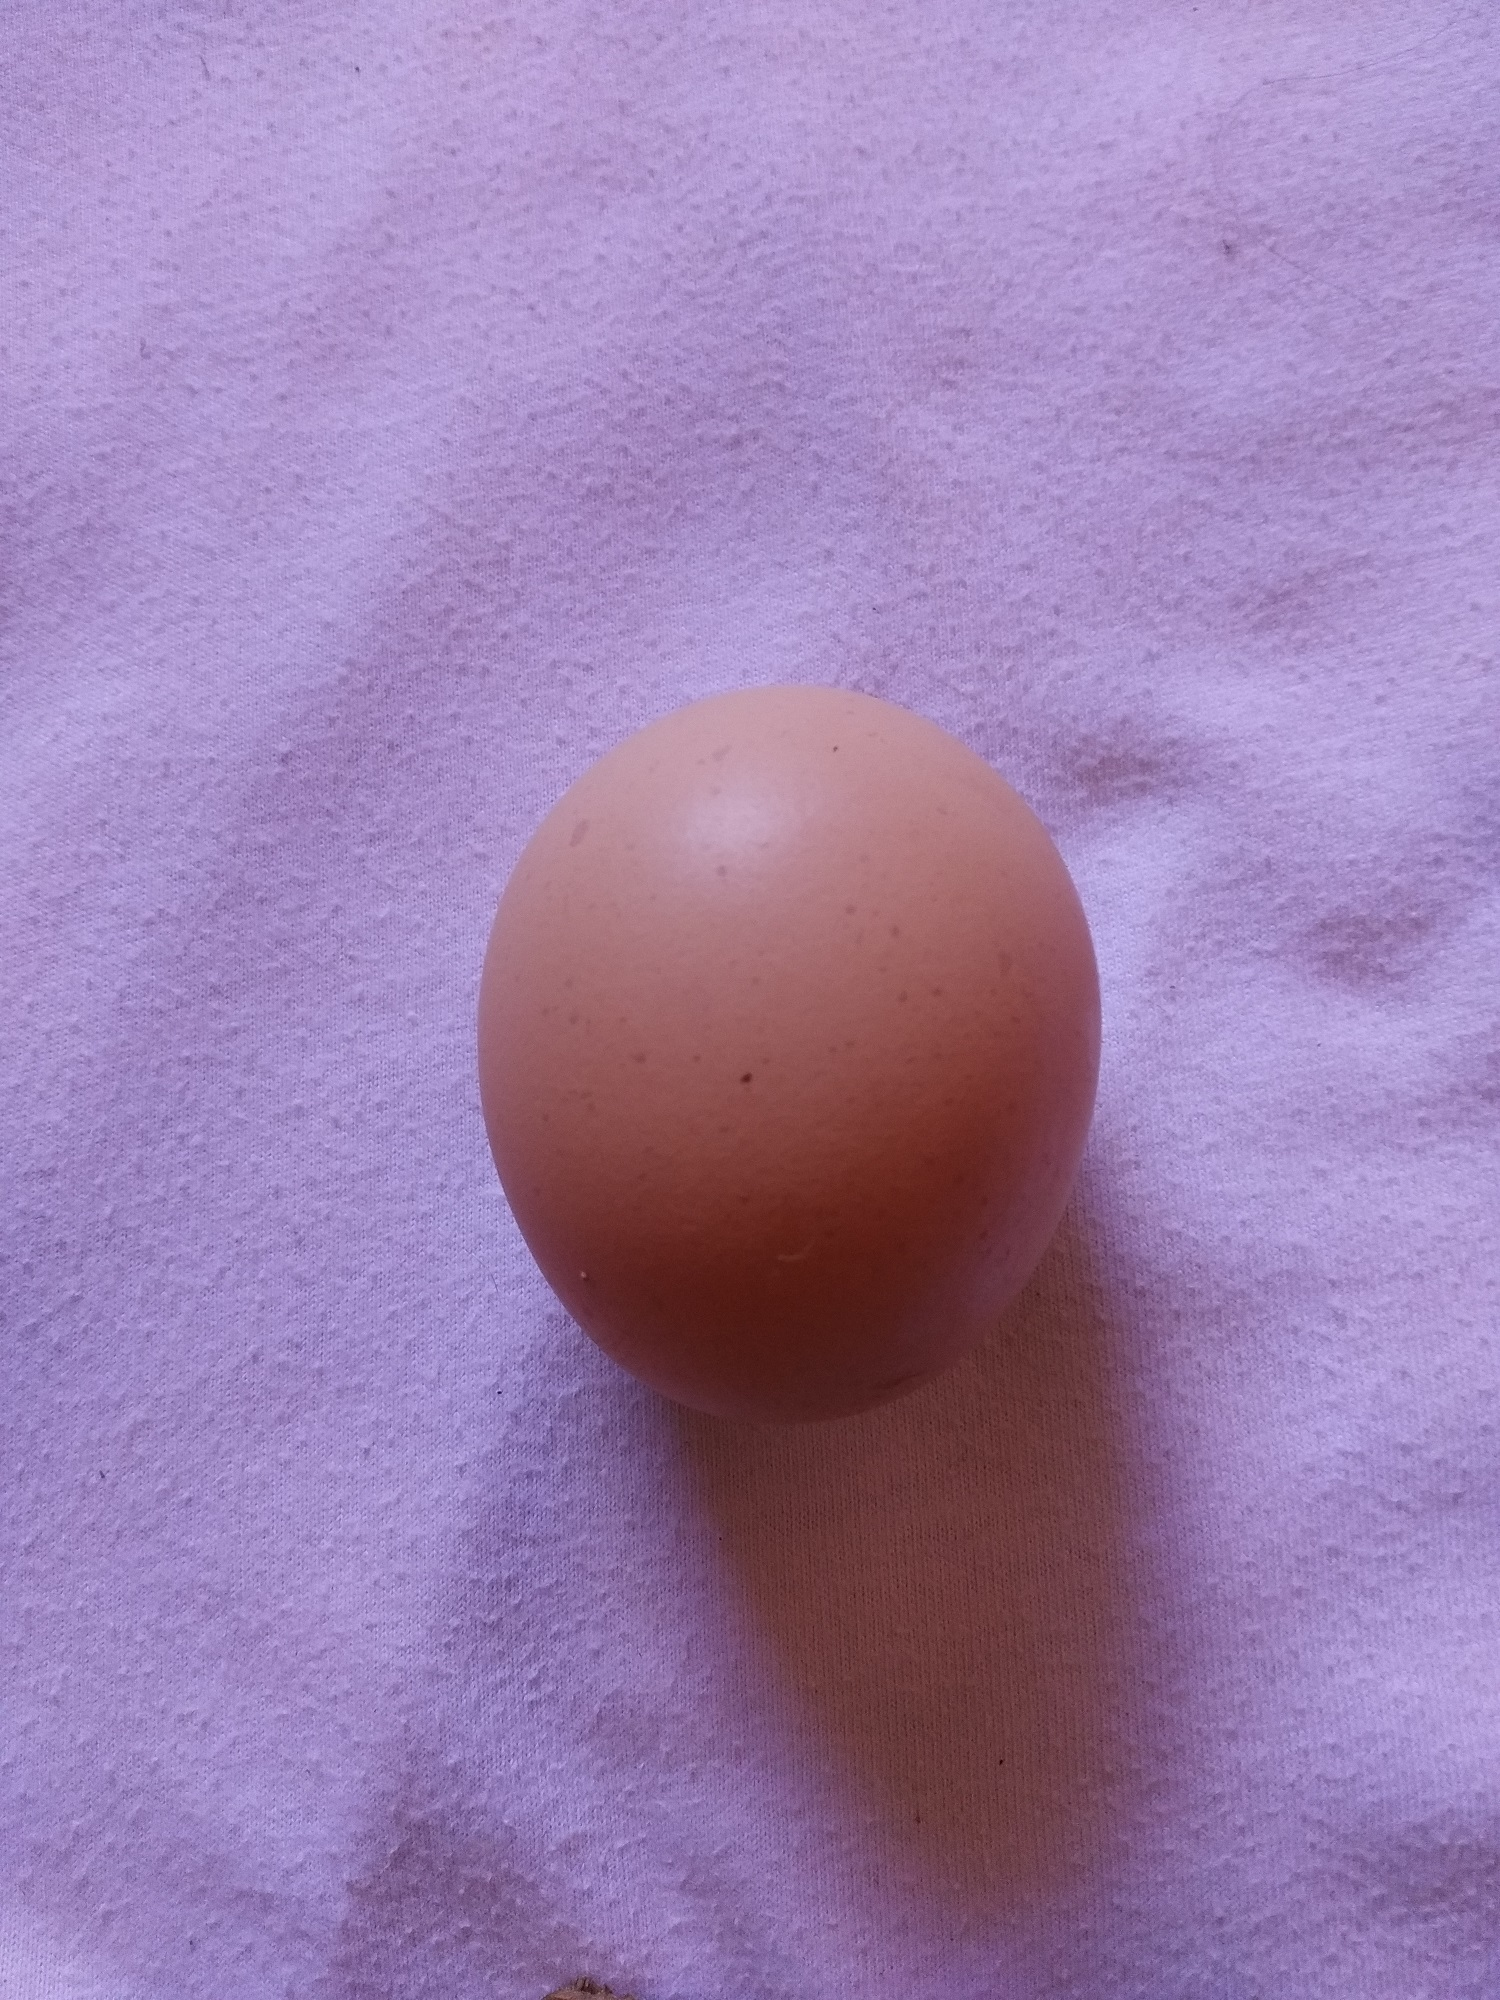Female: (470, 671, 1111, 1438)
